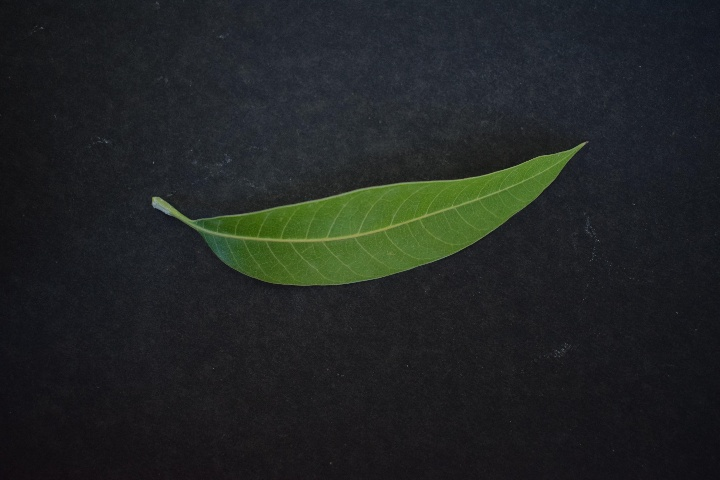healthy: (203, 137, 579, 286)
